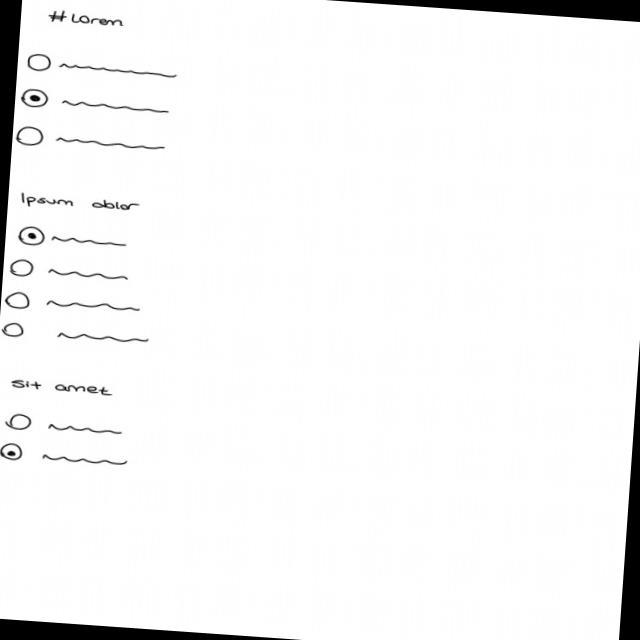label: (15, 190, 144, 214), (8, 376, 116, 398), (44, 8, 128, 30)
radio: (13, 123, 168, 158), (18, 86, 173, 120), (20, 51, 182, 82), (0, 318, 153, 349), (2, 289, 145, 321), (0, 440, 133, 470), (14, 222, 131, 254), (5, 256, 134, 285), (2, 411, 128, 439)
